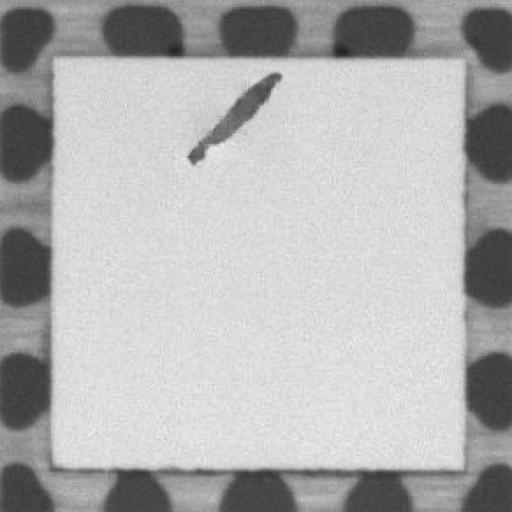DIE_INK: (181, 68, 282, 166)
